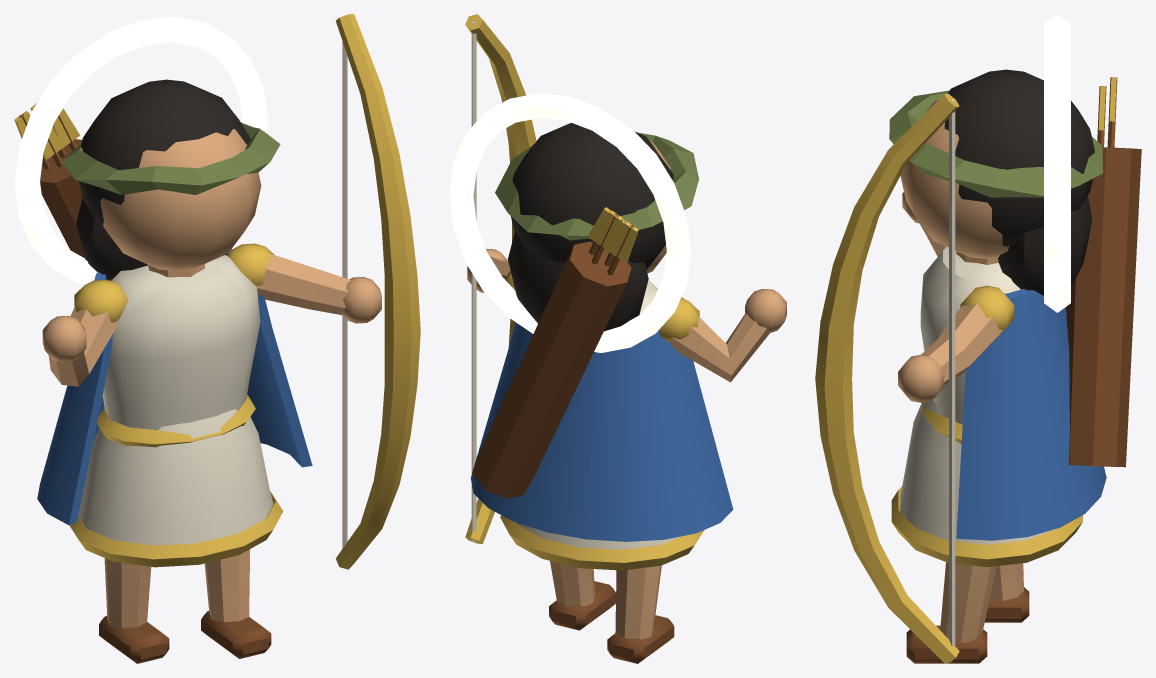
File: godArcher.glb
The picture shows the model from 3 angles, left to right: view 1: azimuth 30°, elevation 25°; view 2: azimuth 150°, elevation 25°; view 3: azimuth 270°, elevation 25°; orthographic projection. The views are drawn at different scales.
Parts seen in each view (by area): view 1: godArcher; view 2: godArcher; view 3: godArcher.
Part boxes in pixels (x1,y1,x2,y2): godArcher: [14, 14, 420, 663]; godArcher: [449, 14, 786, 663]; godArcher: [815, 14, 1141, 663].
Bounding box in the file's own units: 0.5827 × 1.01 × 0.4836.
